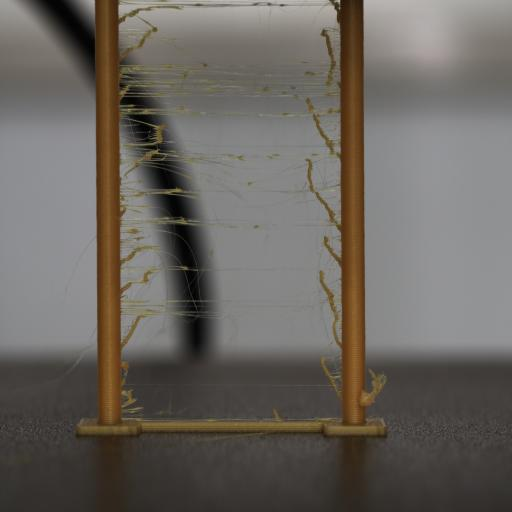stringing: (118, 1, 344, 353), (359, 370, 388, 412)
